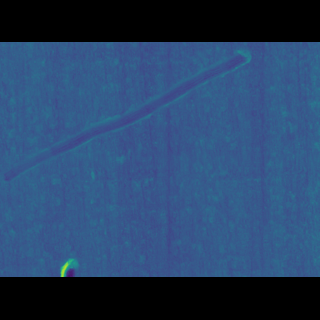Loch: (0, 77, 254, 178), (55, 228, 80, 246)
